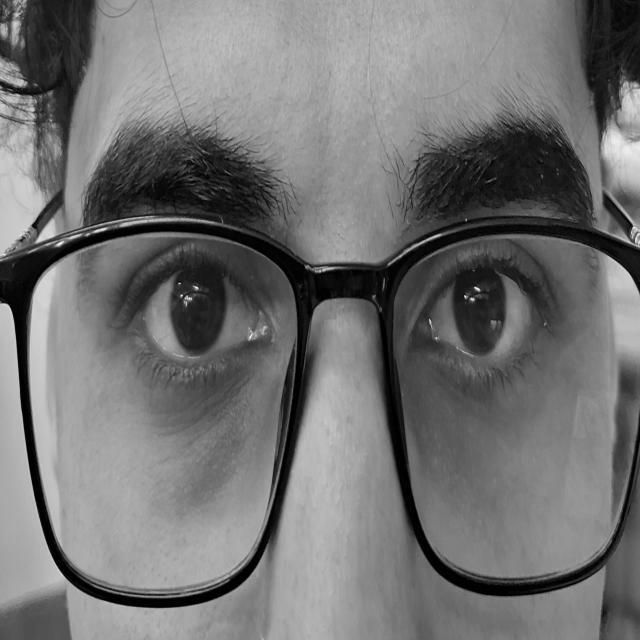real: (79, 82, 605, 562)
